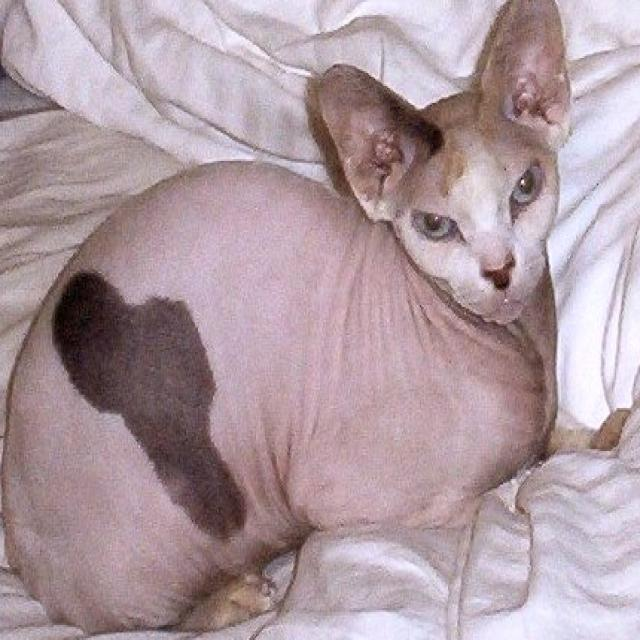Sphynx: (0, 0, 632, 636)
